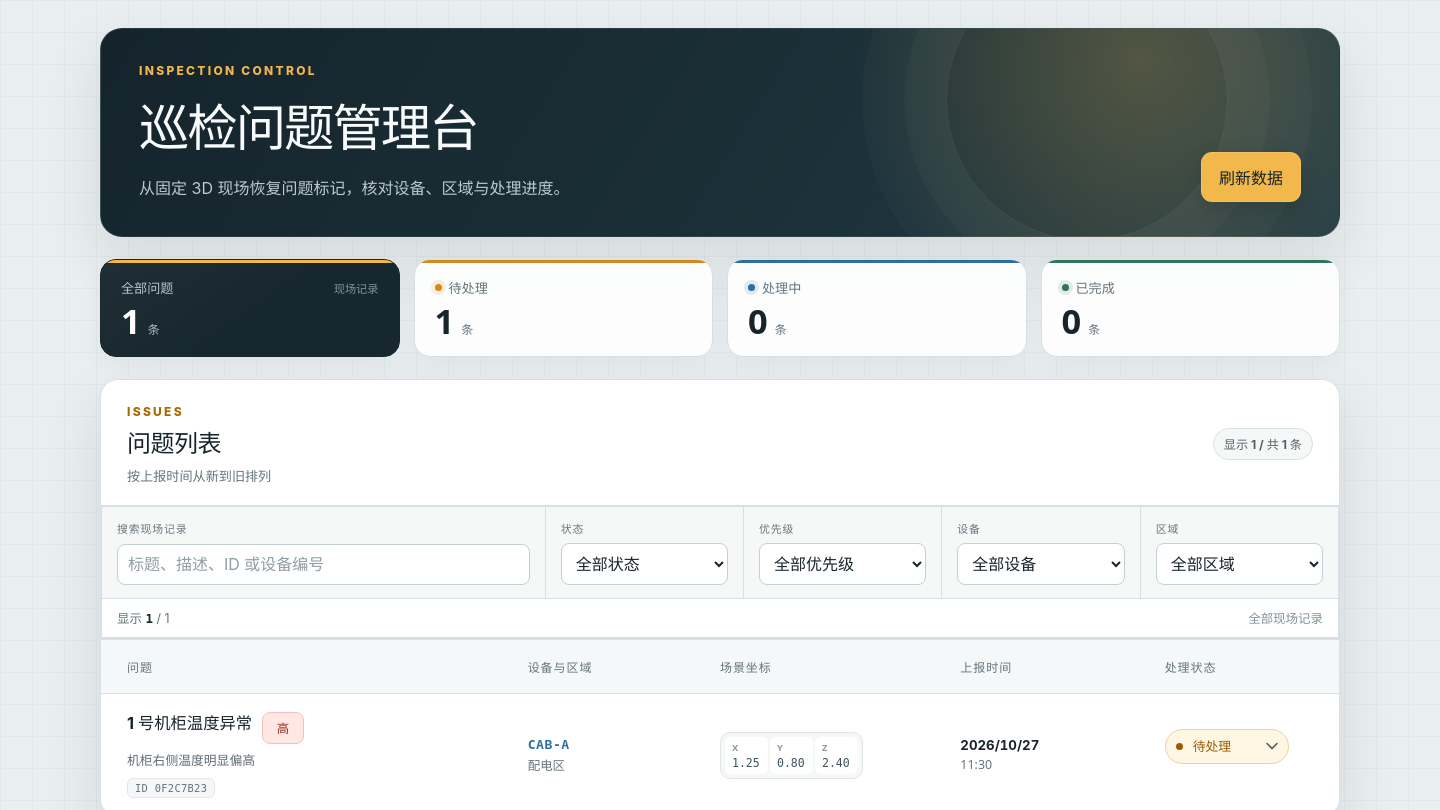
Test: inspection issue dashboard › deletes an issue only after confirmation
The width and height of the screenshot is (1440, 810).
Click the button "1 号机柜温度异常".
click(190, 723)  # box top-left (127, 712), bottom-right (252, 734)
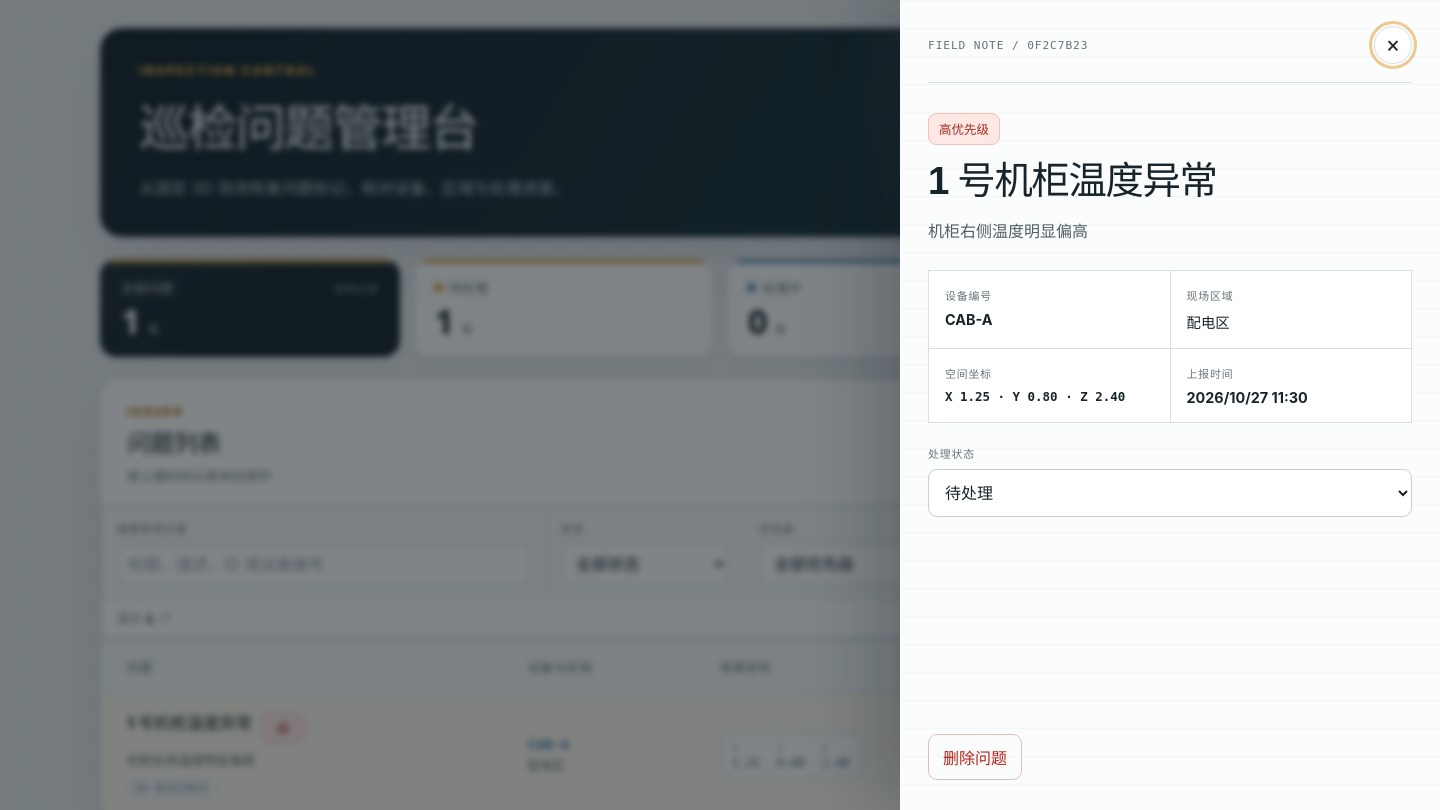
Click the button "删除问题".
click(975, 757)  # box top-left (928, 734), bottom-right (1022, 780)
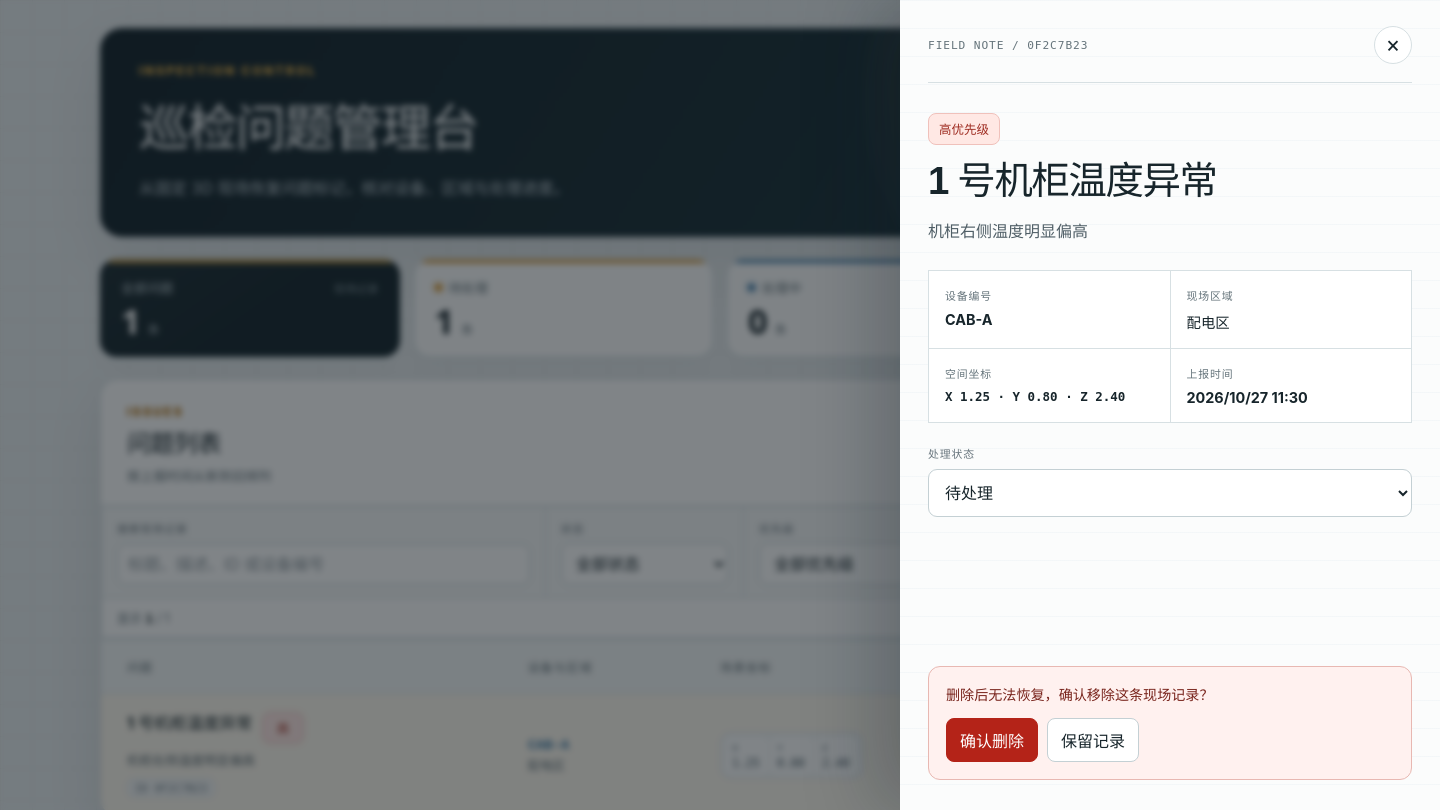
Expected: the text "当前没有问题" is not shown
Now the text "删除后无法恢复，确认移除这条现场记录？" is shown, box top-left (946, 686), bottom-right (1214, 703)
Click the button "确认删除".
click(992, 740)  # box top-left (946, 718), bottom-right (1038, 762)
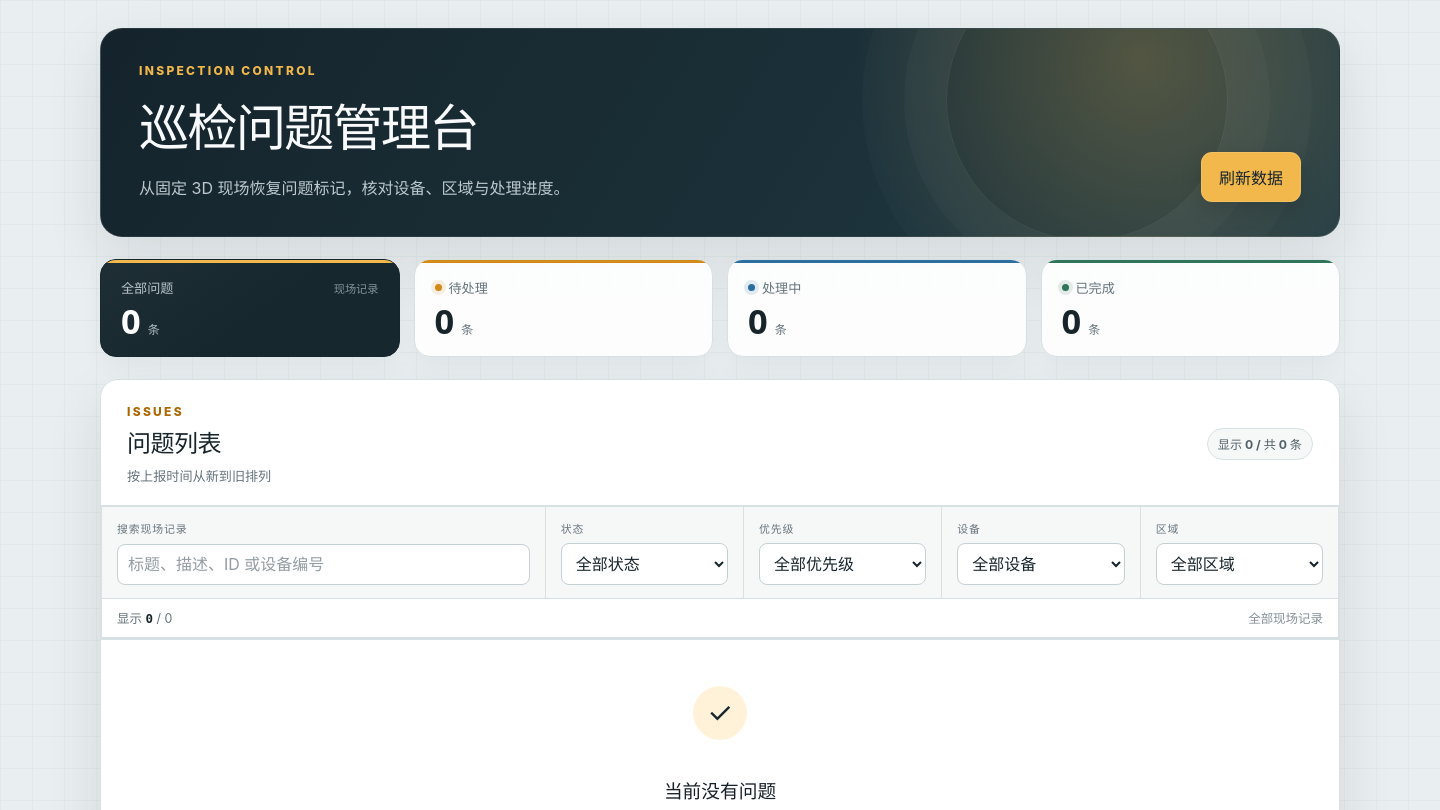
Now the heading "当前没有问题" is shown, box top-left (664, 776), bottom-right (776, 803)
Now the dialog is gone
